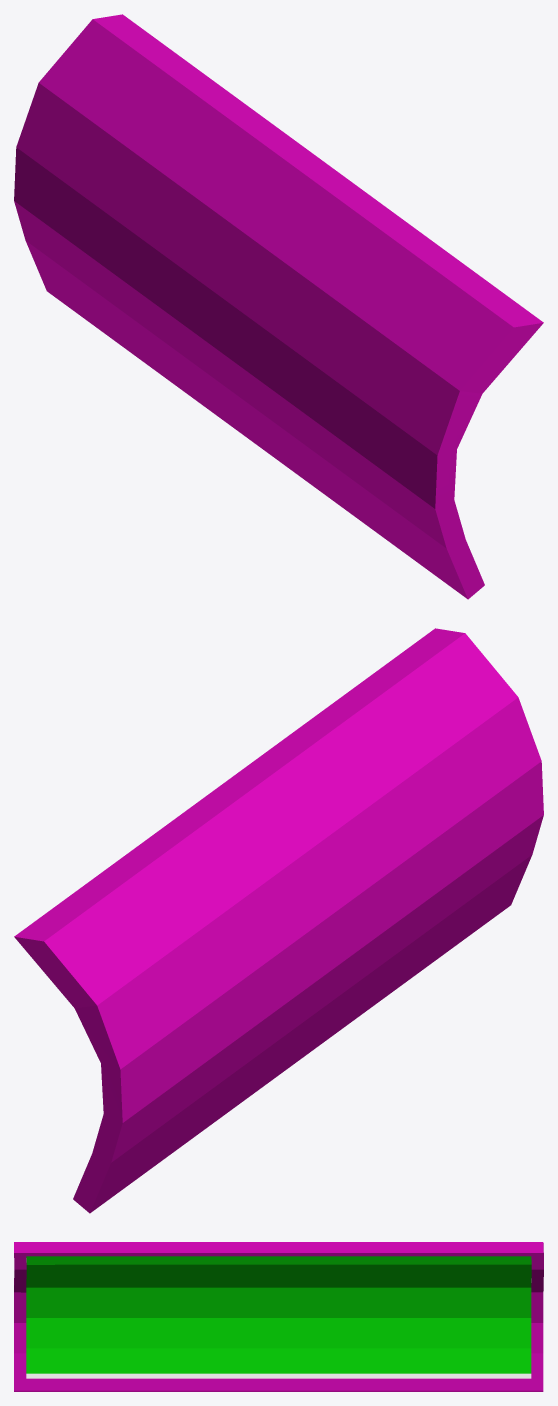
The model's file is cartel.fbx.
3 renders of one model, top to bottom at view 1: azimuth 30°, elevation 25°; view 2: azimuth 150°, elevation 25°; view 3: azimuth 270°, elevation 25°, orthographic. The views are drawn at different scales.
Parts seen in each view (by area): view 1: catel para el tren; view 2: catel para el tren; view 3: catel para el tren.
Part boxes in pixels (x1=…): catel para el tren: x1=14, y1=14, x2=543, y2=599; catel para el tren: x1=14, y1=628, x2=543, y2=1213; catel para el tren: x1=14, y1=1242, x2=543, y2=1391.
Bounding box in the file's own units: 19.24 × 44.12 × 129.
